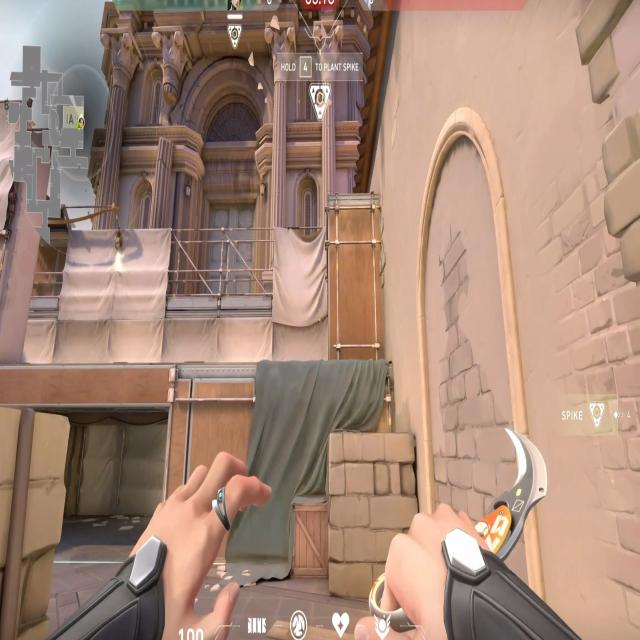A_Heaven_Box: (324, 185, 389, 366)
A_Hell: (2, 365, 181, 573)
